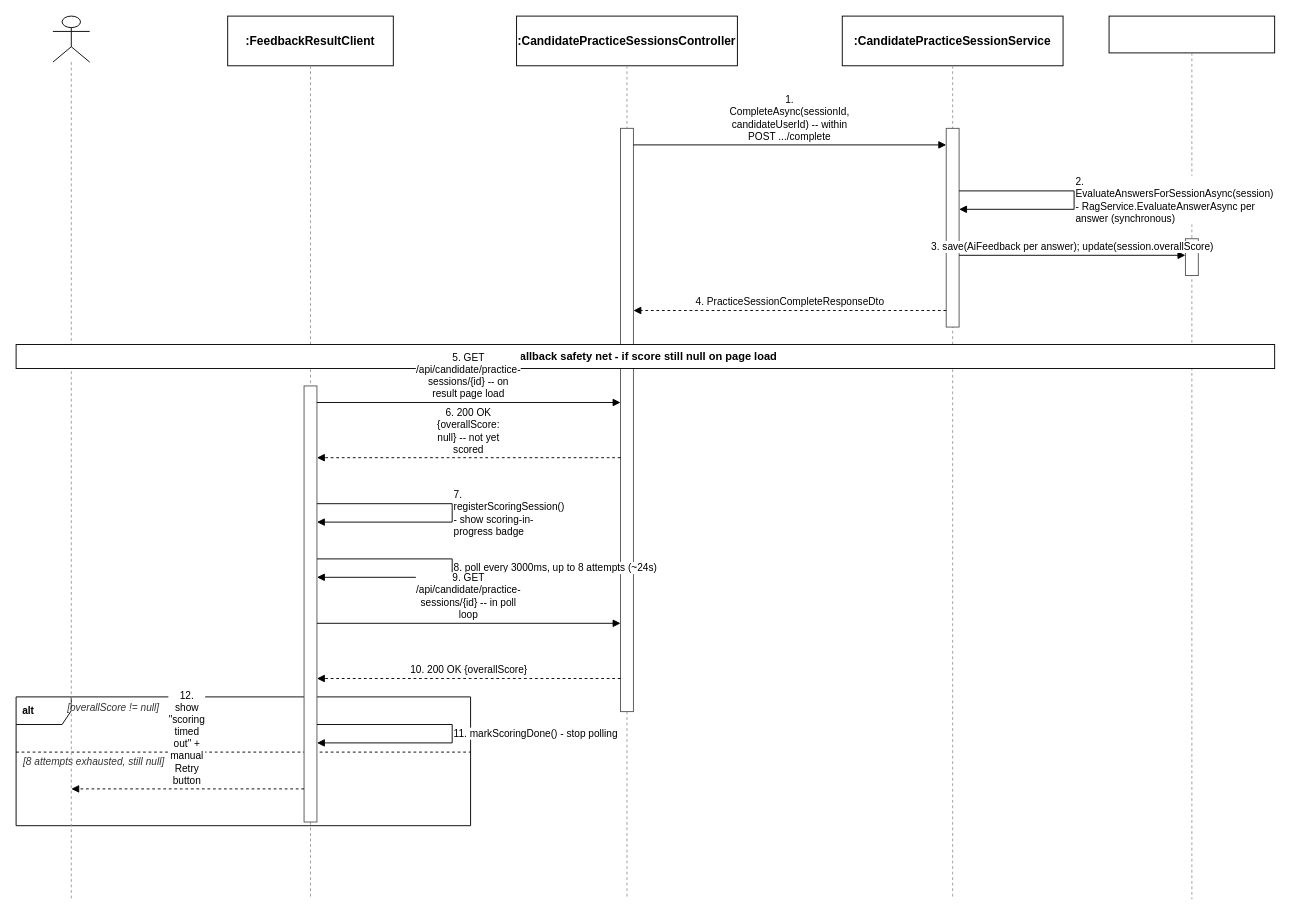
Some shapes in this 1291 by 916 pixel diagram are drawn without their labels. Each missing label, with the box of its shape:
:AiFeedback: (1108, 15, 1275, 53)
Candidate: (52, 15, 90, 62)
